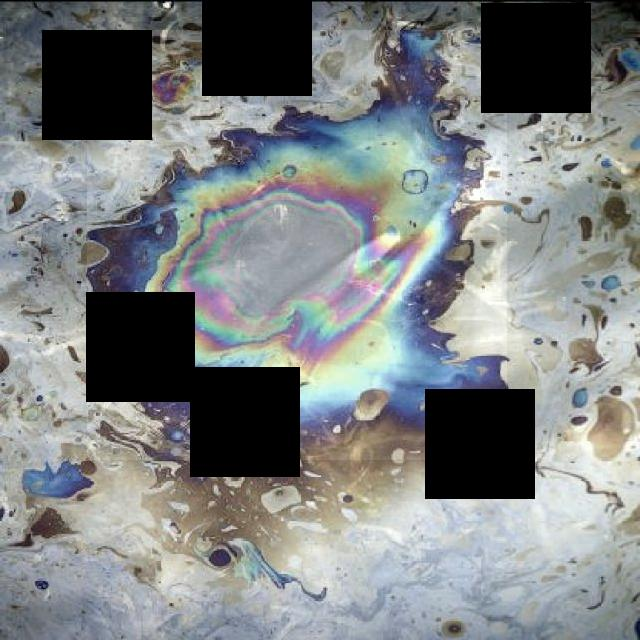oil spill: (87, 31, 507, 460)
